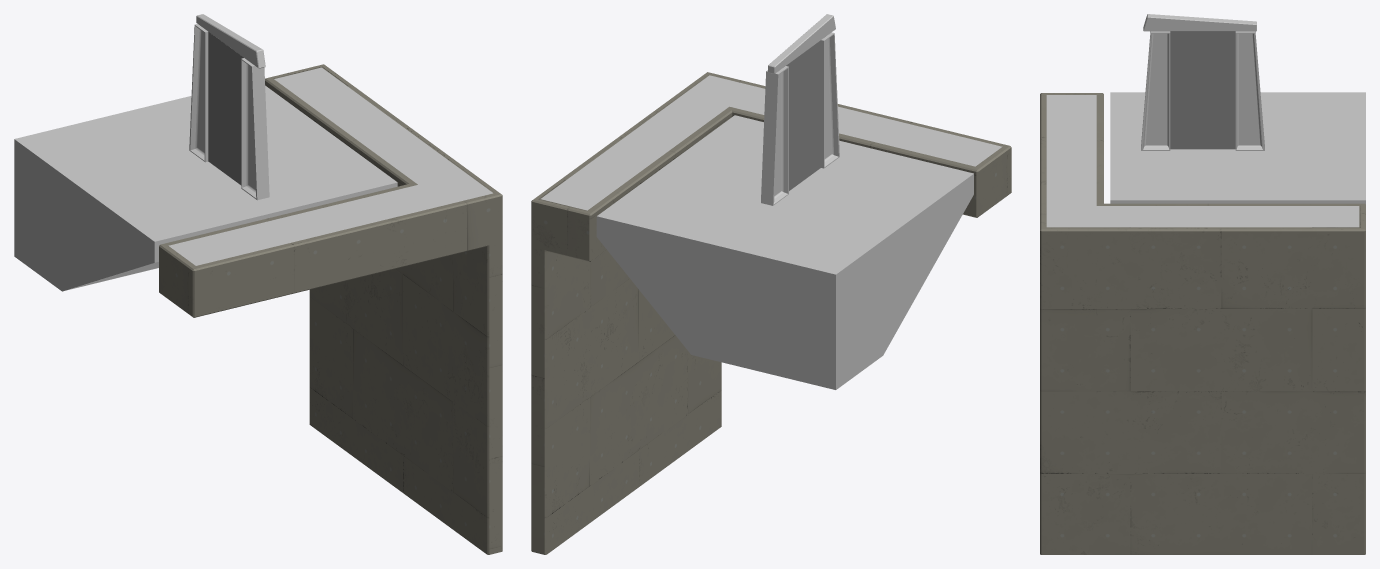
Rendered from PlatformColumn.fbx.
The picture shows the model from 3 angles, left to right: view 1: azimuth 30°, elevation 25°; view 2: azimuth 150°, elevation 25°; view 3: azimuth 270°, elevation 25°; orthographic projection. The views are drawn at different scales.
Parts seen in each view (by area): view 1: PlatformColumn, DisplayVertical; view 2: PlatformColumn, DisplayVertical; view 3: PlatformColumn, DisplayVertical.
Boxes of the visible parts, x1,y1,x2,y2 form: PlatformColumn: (14, 64, 502, 554); DisplayVertical: (189, 14, 269, 200); PlatformColumn: (531, 72, 1011, 554); DisplayVertical: (761, 14, 839, 205); PlatformColumn: (1040, 92, 1365, 554); DisplayVertical: (1141, 14, 1264, 150).
Size of the model in its own units: 5 by 7.75 by 5.
